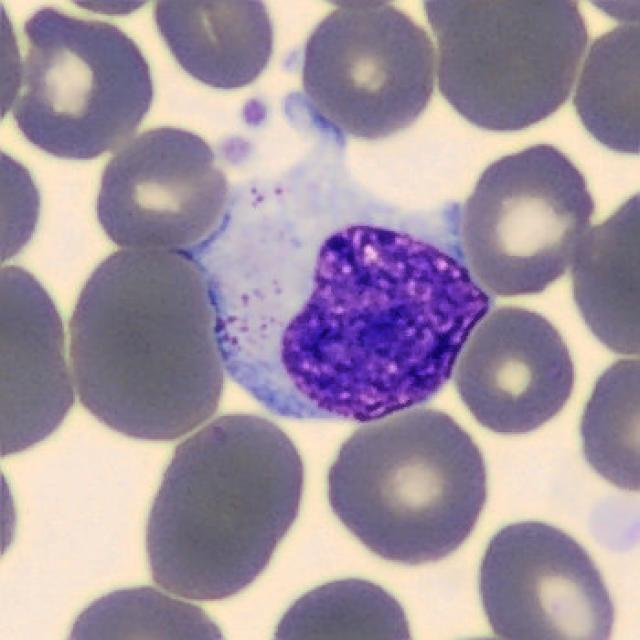Linfocito atipico: (190, 94, 490, 421)
